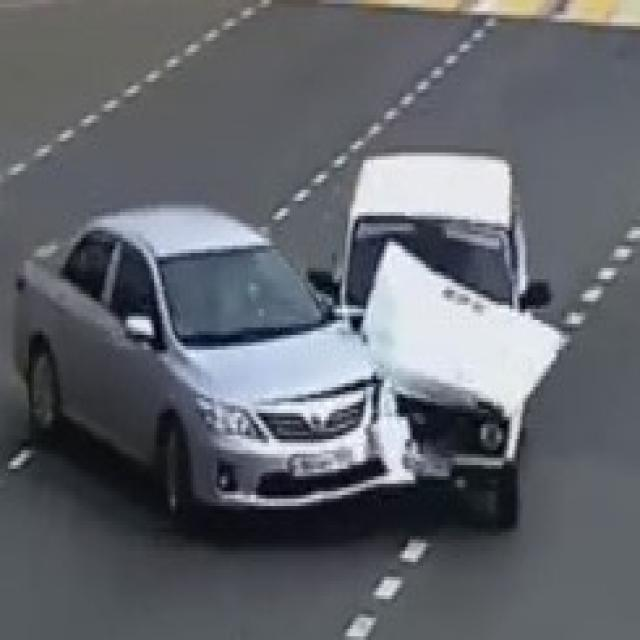accident: (21, 174, 561, 523)
